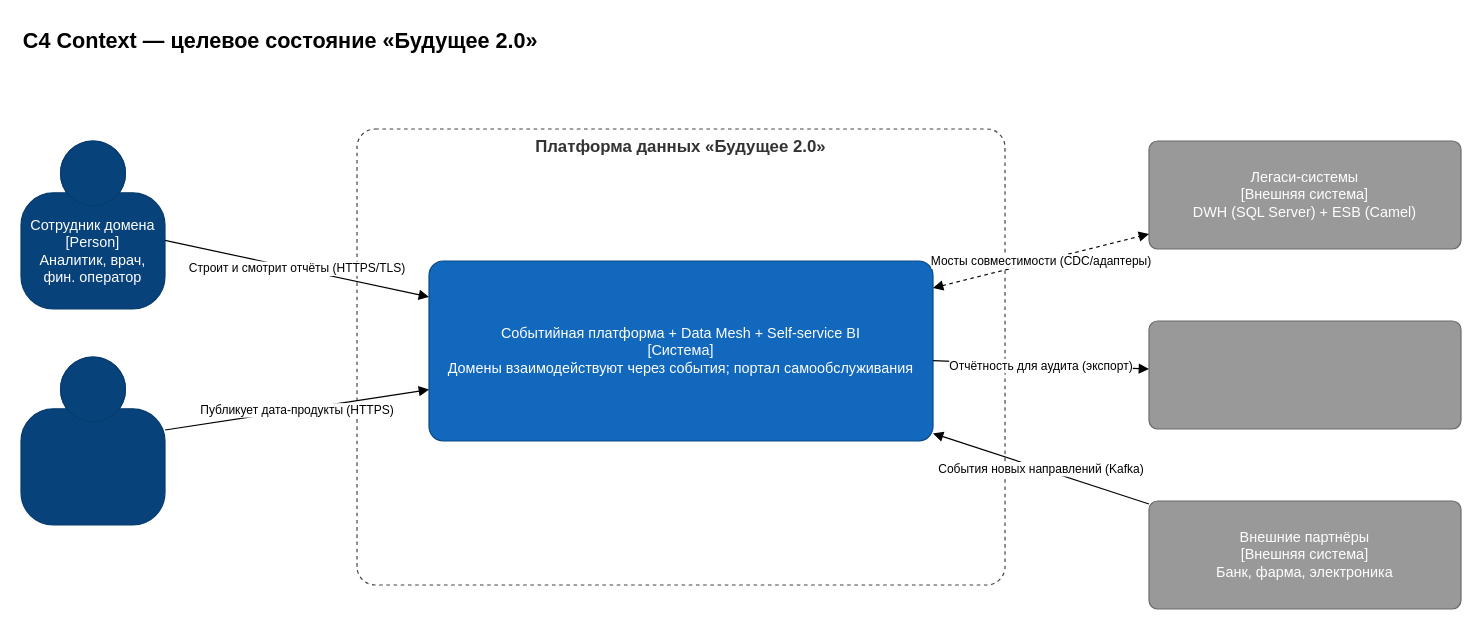
This 1482x630 diagram has some shape labels left out. Here are the shapes that lost their labels. From the top down, the box of each, then its label:
(1148, 320, 1461, 429): Регуляторы [Внешняя система] Мед. и фин. надзор
(20, 356, 165, 525): Data Product Owner / Engineer [Person] Создаёт дата-продукты
